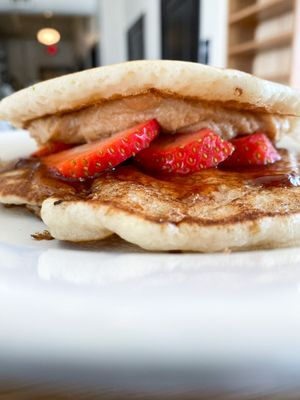soup: (0, 59, 300, 254)
